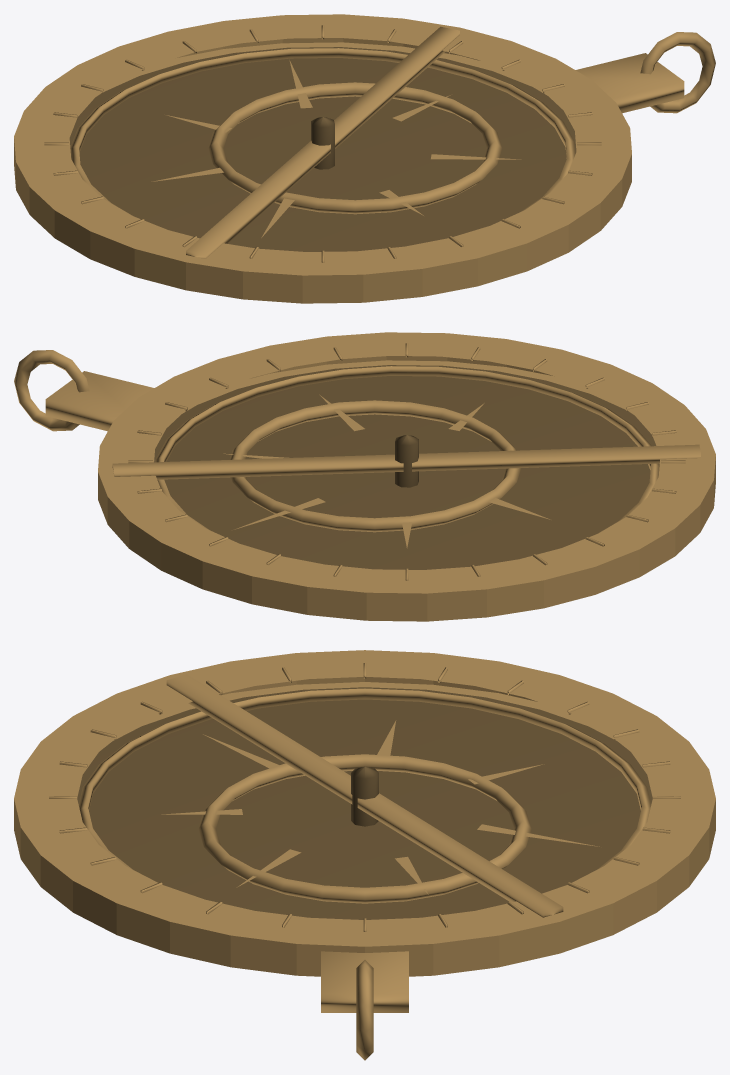
File: atlas-astrolabe.glb
3 renders of one model, top to bottom at view 1: azimuth 30°, elevation 25°; view 2: azimuth 150°, elevation 25°; view 3: azimuth 270°, elevation 25°, orthographic. The views are drawn at different scales.
Parts seen in each view (by area): view 1: atlas-astrolabe; view 2: atlas-astrolabe; view 3: atlas-astrolabe.
Boxes of the visible parts, x1=… form: atlas-astrolabe: x1=14, y1=14, x2=715, y2=303; atlas-astrolabe: x1=14, y1=332, x2=715, y2=621; atlas-astrolabe: x1=14, y1=650, x2=715, y2=1060.
Bounding box in the file's own units: 0.3081 × 0.0369 × 0.25.
